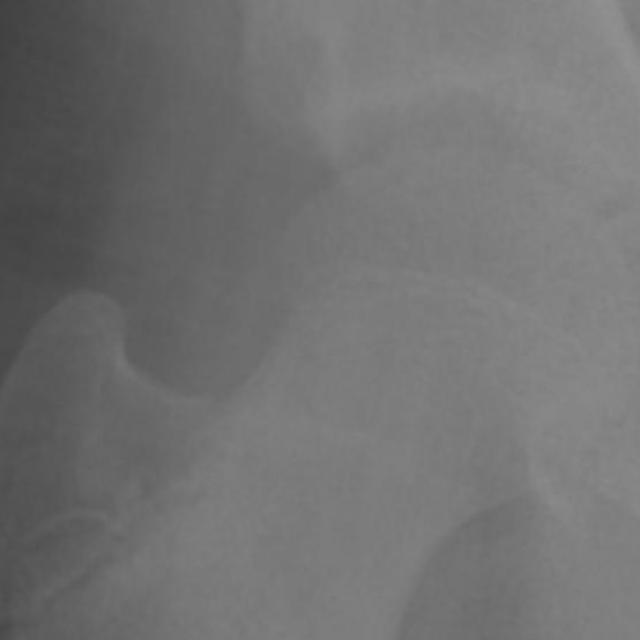Fitted_femural_head: (380, 147, 432, 380)
